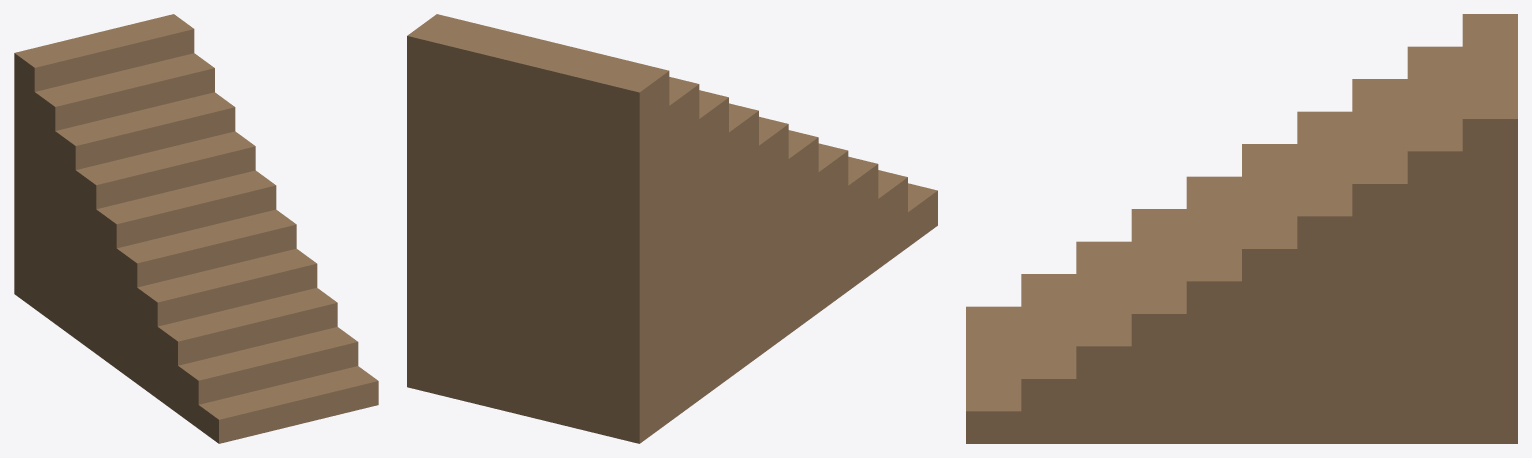
File: Staircase.fbx
3 renders of one model, left to right at view 1: azimuth 30°, elevation 25°; view 2: azimuth 150°, elevation 25°; view 3: azimuth 270°, elevation 25°, orthographic. The views are drawn at different scales.
Parts seen in each view (by area): view 1: Staircase; view 2: Staircase; view 3: Staircase.
Boxes of the visible parts, box(x1,y1,x2,y2) form: Staircase: box(14, 14, 378, 443); Staircase: box(407, 14, 937, 443); Staircase: box(966, 14, 1517, 443).
Bounding box in the file's own units: 1.8 × 2.6 × 4.
